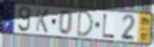0: (58, 9, 74, 37)
2: (120, 13, 137, 41)
9: (18, 6, 32, 34)
D: (76, 10, 95, 39)
K: (35, 7, 50, 35)
L: (101, 13, 116, 39)
